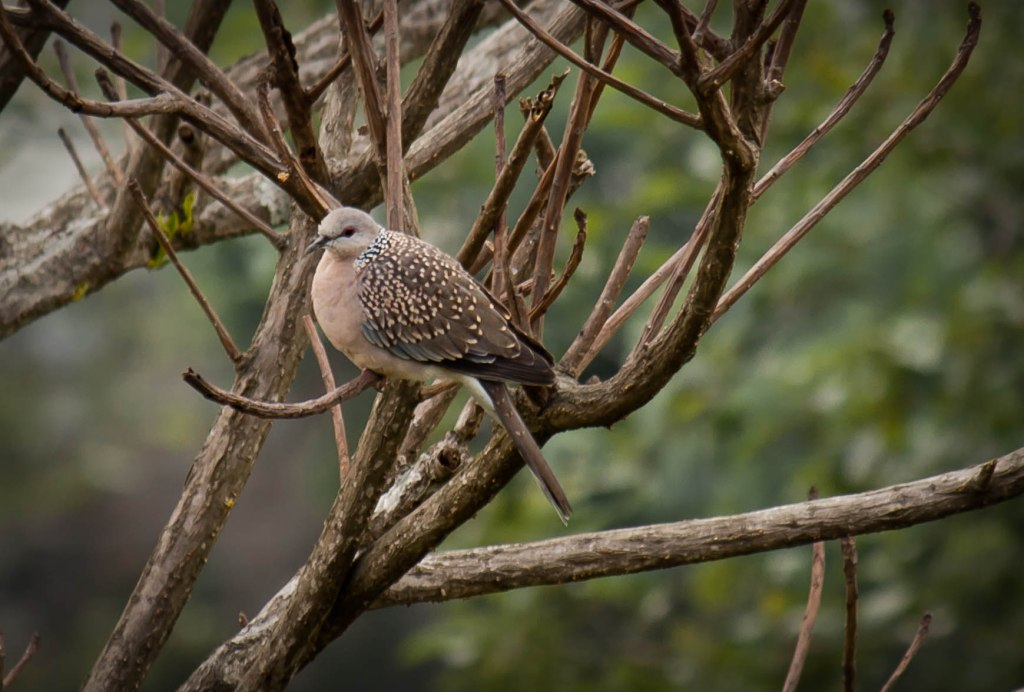bird: (281, 195, 595, 421)
